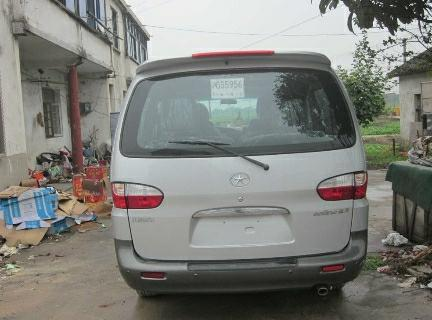car: (113, 41, 375, 302)
